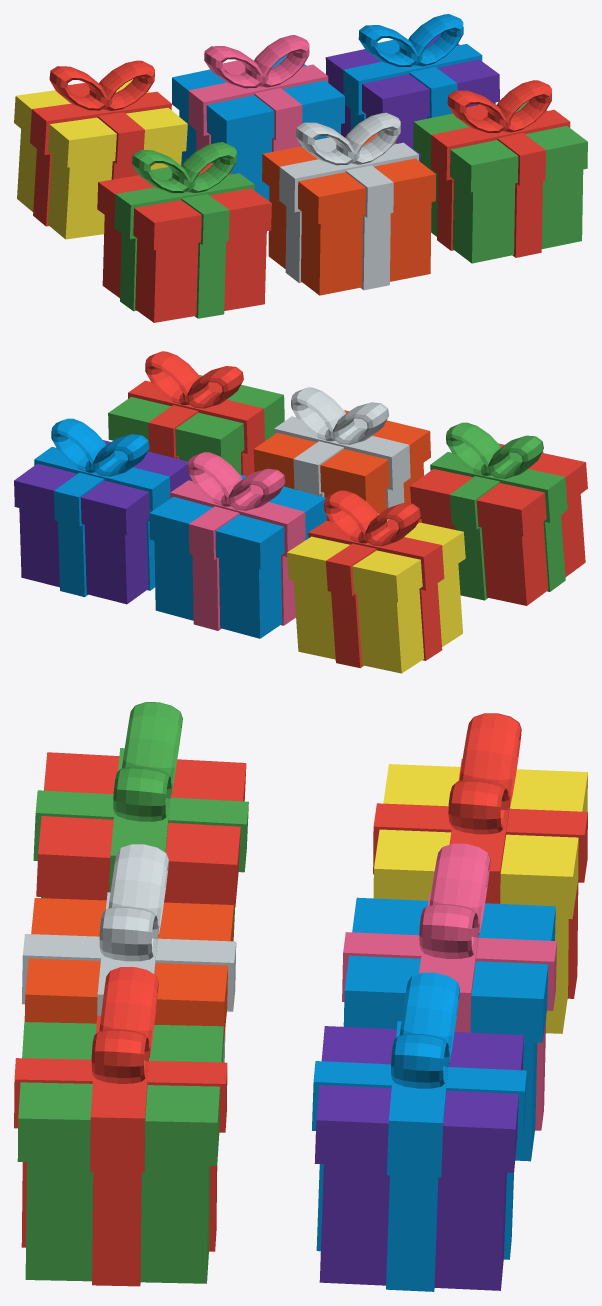
The picture shows the model from 3 angles, top to bottom: view 1: azimuth 30°, elevation 25°; view 2: azimuth 150°, elevation 25°; view 3: azimuth 270°, elevation 25°; orthographic projection. The views are drawn at different scales.
Visible parts, largest first — view 1: group_364876619, group_1096675457, group_1089758735, group_648516461, group_786396899, group_1963103134; view 2: group_648516461, group_786396899, group_1963103134, group_364876619, group_1096675457, group_1089758735; view 3: group_1089758735, group_1963103134, group_648516461, group_364876619, group_786396899, group_1096675457.
Part boxes in pixels (x1=…): group_364876619: x1=97, y1=142, x2=271, y2=322; group_1096675457: x1=262, y1=112, x2=436, y2=295; group_1089758735: x1=413, y1=80, x2=587, y2=263; group_648516461: x1=14, y1=60, x2=187, y2=239; group_786396899: x1=172, y1=35, x2=344, y2=200; group_1963103134: x1=325, y1=14, x2=499, y2=161; group_648516461: x1=287, y1=490, x2=465, y2=673; group_786396899: x1=149, y1=452, x2=326, y2=638; group_1963103134: x1=14, y1=418, x2=190, y2=604; group_364876619: x1=410, y1=422, x2=587, y2=605; group_1096675457: x1=253, y1=387, x2=430, y2=521; group_1089758735: x1=108, y1=351, x2=284, y2=481; group_1089758735: x1=14, y1=967, x2=227, y2=1286; group_1963103134: x1=312, y1=972, x2=526, y2=1291; group_648516461: x1=373, y1=713, x2=587, y2=1033; group_364876619: x1=33, y1=702, x2=248, y2=940; group_786396899: x1=342, y1=843, x2=556, y2=1161; group_1096675457: x1=21, y1=844, x2=236, y2=1062.
Bounding box in the file's own units: 137 × 49.37 × 94.93.
